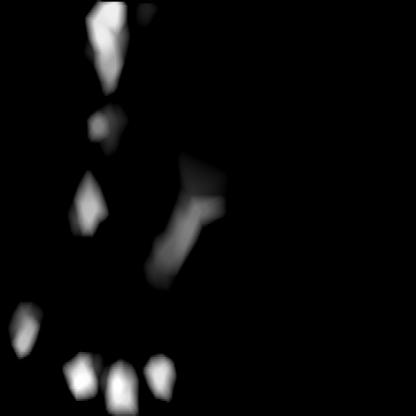fingers: (86, 0, 125, 90)
palm: (10, 300, 174, 411)
thumb: (76, 106, 195, 275)
